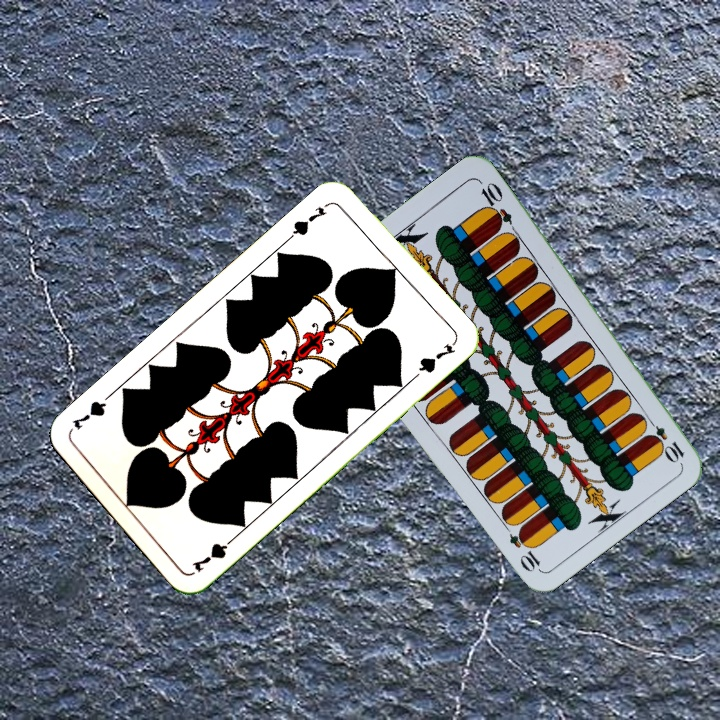E10: (641, 413, 687, 465)
G7: (188, 531, 240, 576), (285, 202, 330, 242)
